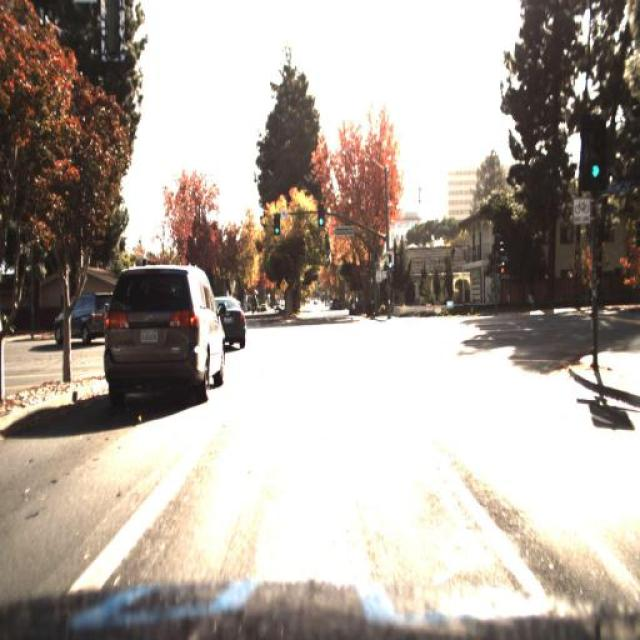car: (101, 262, 226, 400), (50, 285, 104, 354), (51, 286, 110, 344), (210, 292, 248, 347), (220, 290, 246, 358)
trafficLight-Green: (582, 126, 606, 195), (385, 252, 394, 276)
trafficLight-GreenLeft: (315, 201, 326, 234), (384, 254, 397, 278), (316, 208, 326, 232), (273, 216, 281, 238)
trafficLight-Red: (270, 218, 280, 238)
